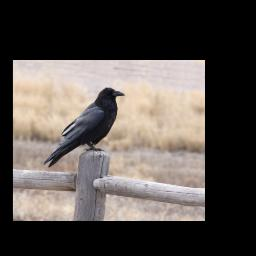Crow: (41, 81, 126, 176)
